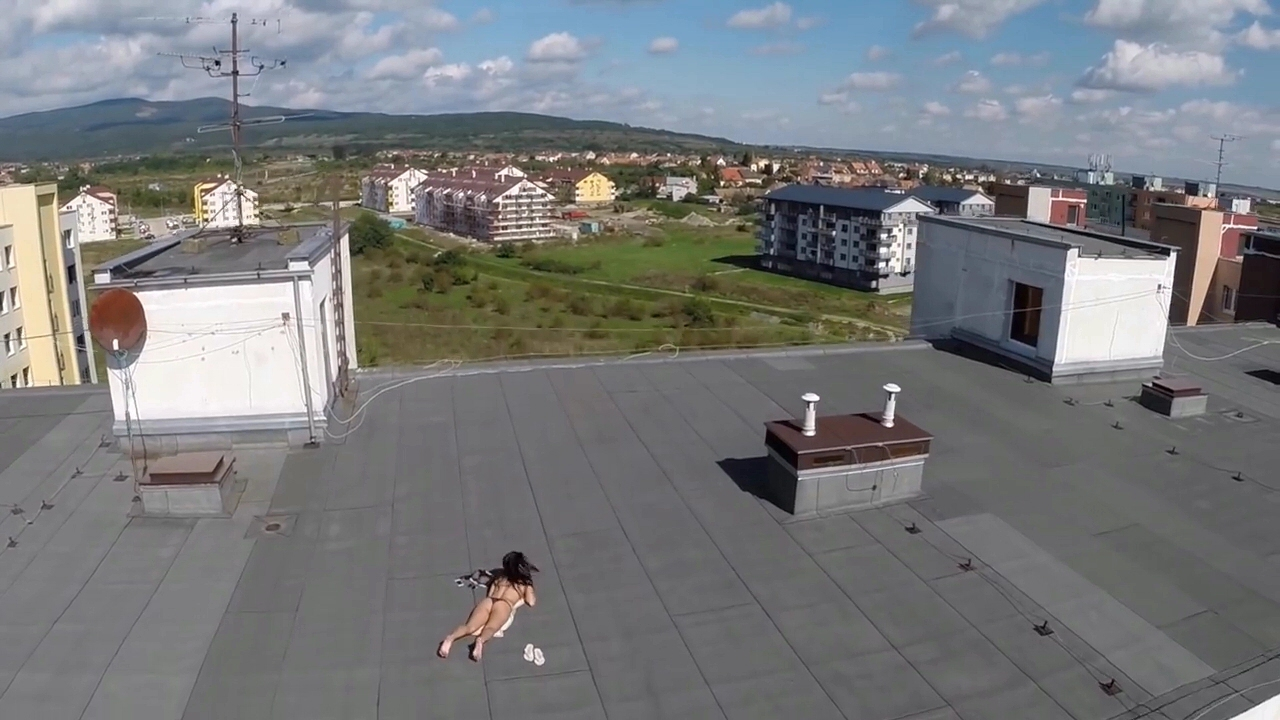insan: (433, 550, 547, 669)
